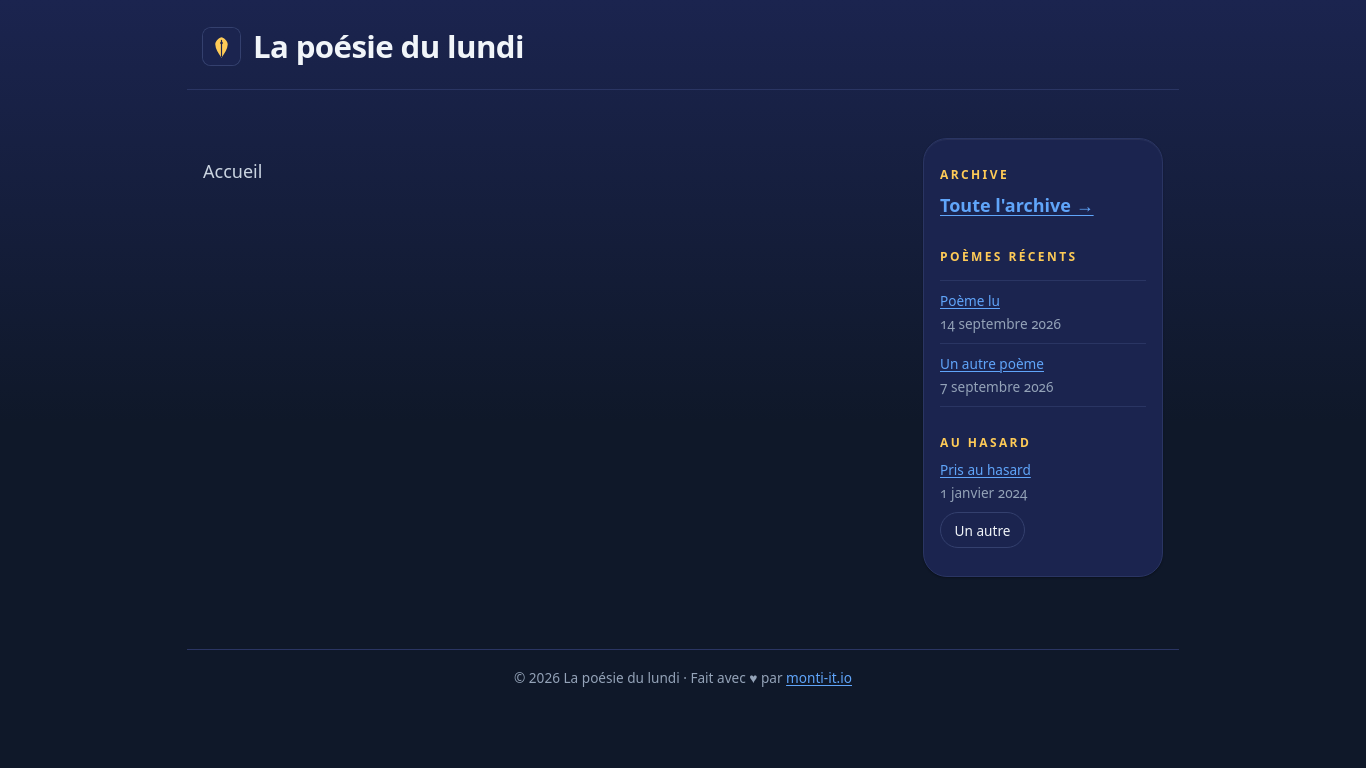
Scenario: SidePane › re-rolls the random pick without reloading, excluding the one it replaces
The image size is (1366, 768).
Expected: the link "Pris au hasard" is shown, [940,460,1031,479]
Click the button "Un autre": click(982, 530) [940,512,1025,548]
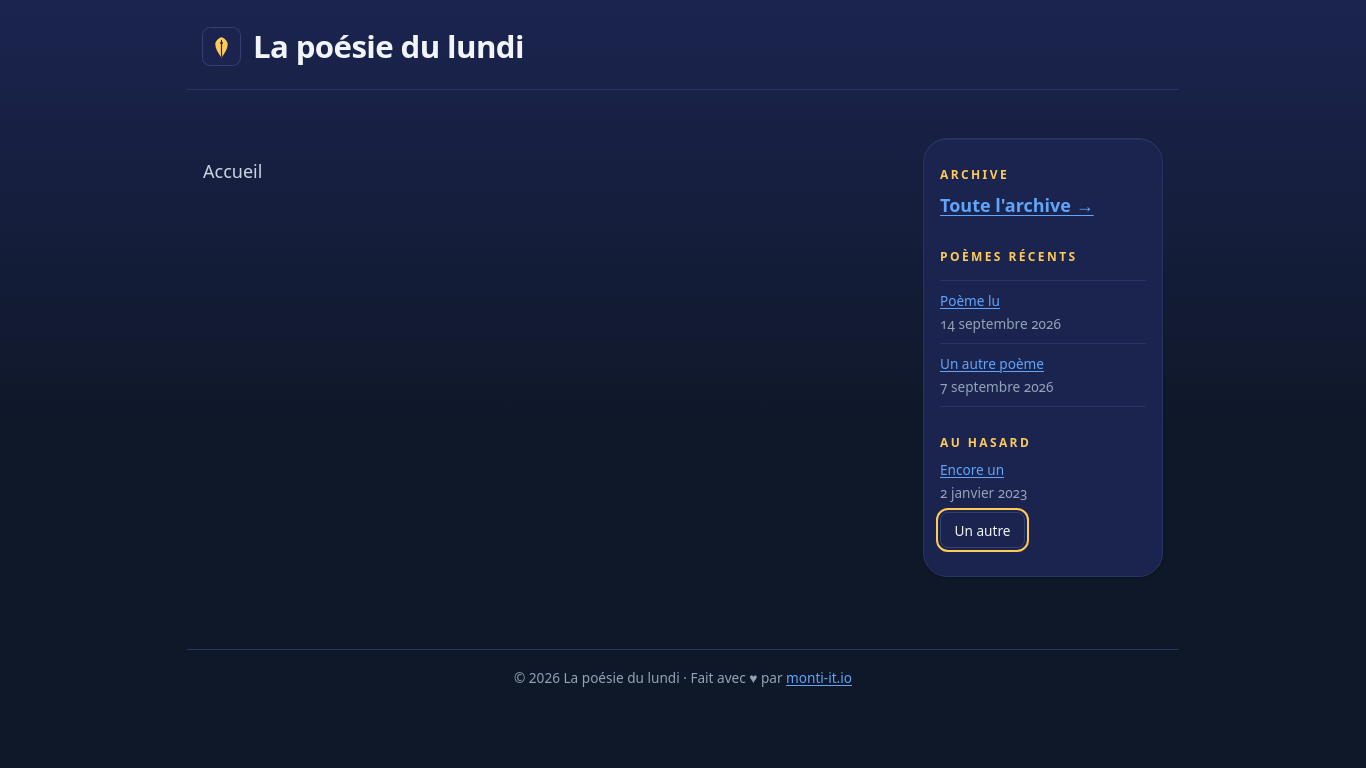
Expected: the link "Encore un" is shown, [940,460,1004,479]
